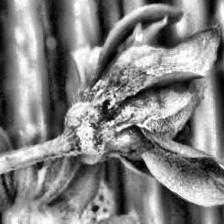Gray Mold: (49, 60, 208, 166)
